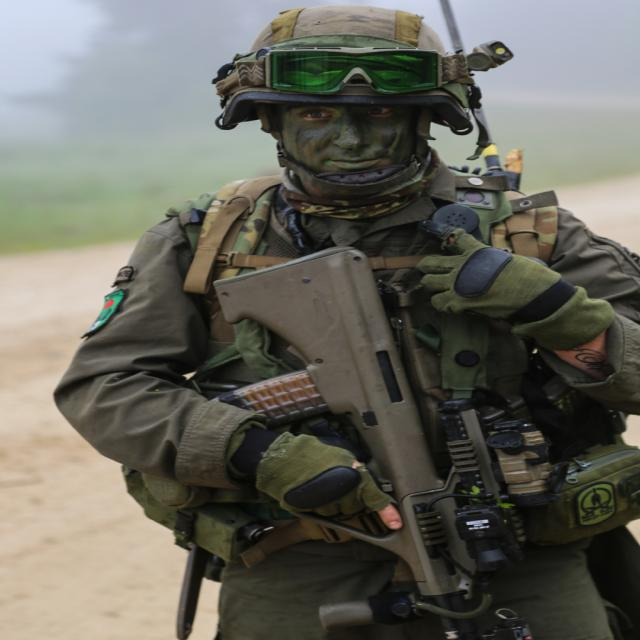Weapon: (182, 235, 545, 620)
